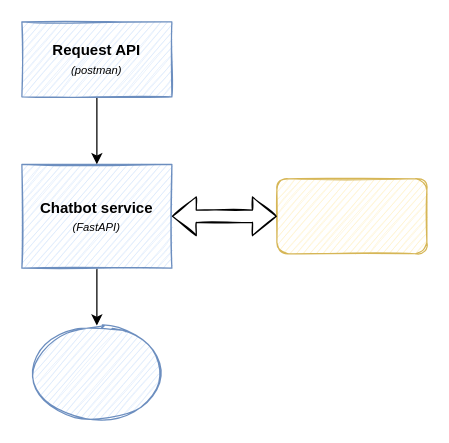
The diagram is 449 pixels wide and 443 high, and some of its shapes have lost their labels. Here are the shapes that lost their labels. From the top down, the centre of each, then its label:
the point at 351,216: Llama.cpp server (LLM serving)
the point at 96,372: JSON Response
